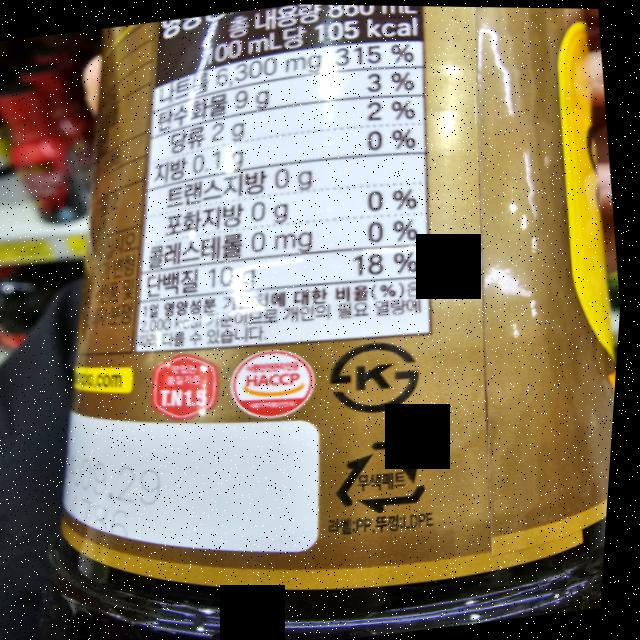ColorlessPET: (330, 429, 440, 521)
